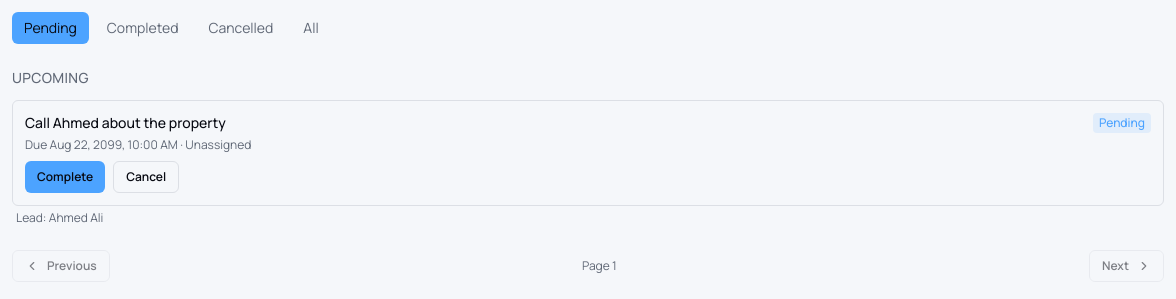
FollowUpsQueueClient › filters by completed tab
This screenshot has width=1176, height=299.
Check: the text "Call Ahmed about the property" is shown, box [25,113,251,133]
Click the tab "Completed" at (143,28), box [95,12,190,44]
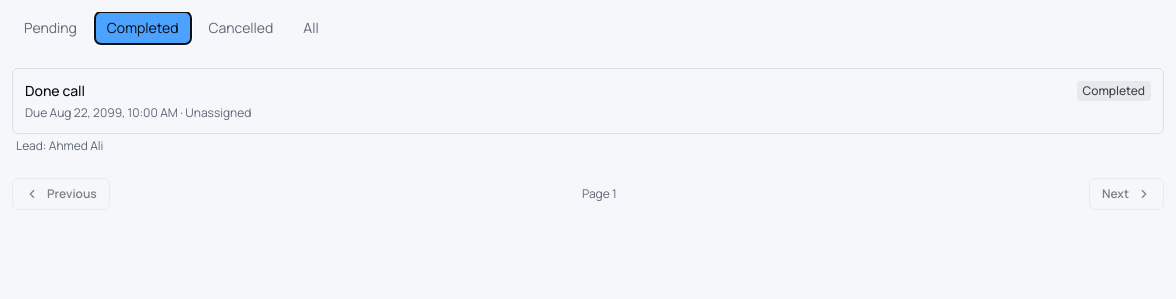
Check: the text "Done call" is shown, box [25,81,85,100]
